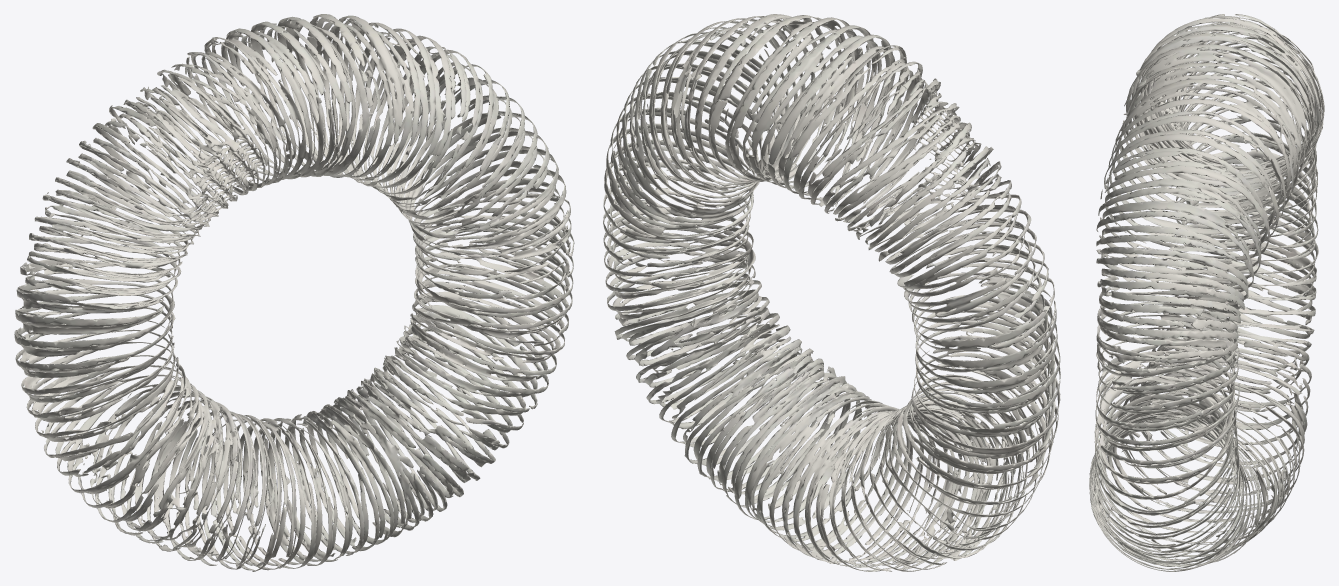
File: jewel_coilring.glb
3 views of the same model, side by side, from view 1: azimuth 30°, elevation 25°; view 2: azimuth 150°, elevation 25°; view 3: azimuth 270°, elevation 25° (orthographic). The views are drawn at different scales.
Parts seen in each view (by area): view 1: geometry_0; view 2: geometry_0; view 3: geometry_0.
Boxes of the visible parts, <box> form: geometry_0: <box>14,14,574,571</box>; geometry_0: <box>603,14,1060,571</box>; geometry_0: <box>1089,14,1324,571</box>.
Bounding box in the file's own units: 0.8836 × 0.8962 × 0.3746.
Materials: 1 (1 with a texture image).
